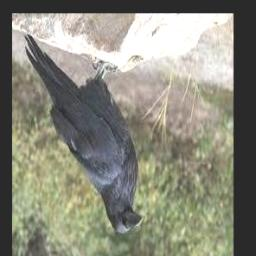Crow: (26, 34, 144, 235)
